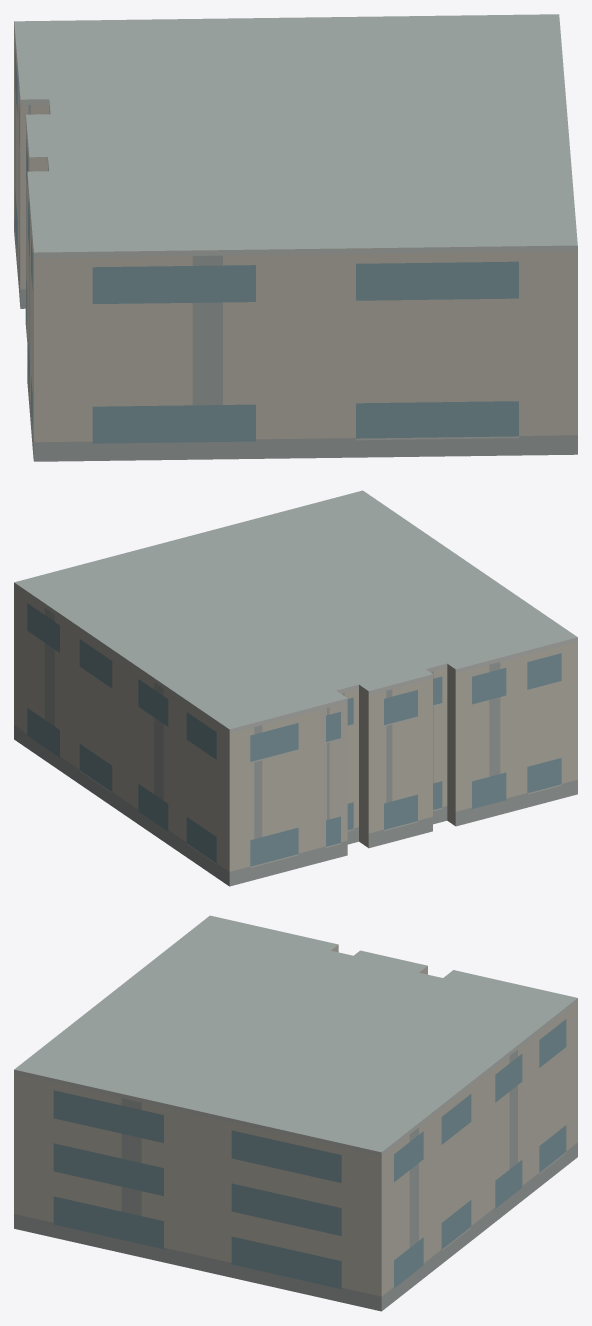
File: survey-upis-32741532.glb
3 views of the same model, one above another, from view 1: azimuth 30°, elevation 25°; view 2: azimuth 150°, elevation 25°; view 3: azimuth 270°, elevation 25° (orthographic). The views are drawn at different scales.
Visible parts, largest first — view 1: survey-upis-32741532.tmp; view 2: survey-upis-32741532.tmp; view 3: survey-upis-32741532.tmp.
Boxes of the visible parts, box(x1,y1,x2,y2) form: survey-upis-32741532.tmp: box(14, 14, 577, 461); survey-upis-32741532.tmp: box(14, 490, 577, 886); survey-upis-32741532.tmp: box(14, 915, 577, 1311).
Size of the model in its own units: 29.22 by 9.15 by 29.39.
